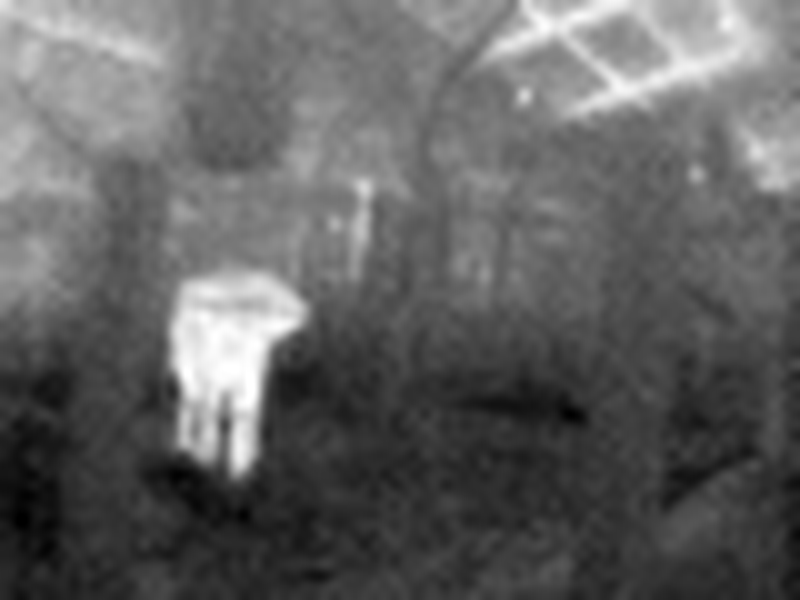elephant: (153, 263, 281, 489)
